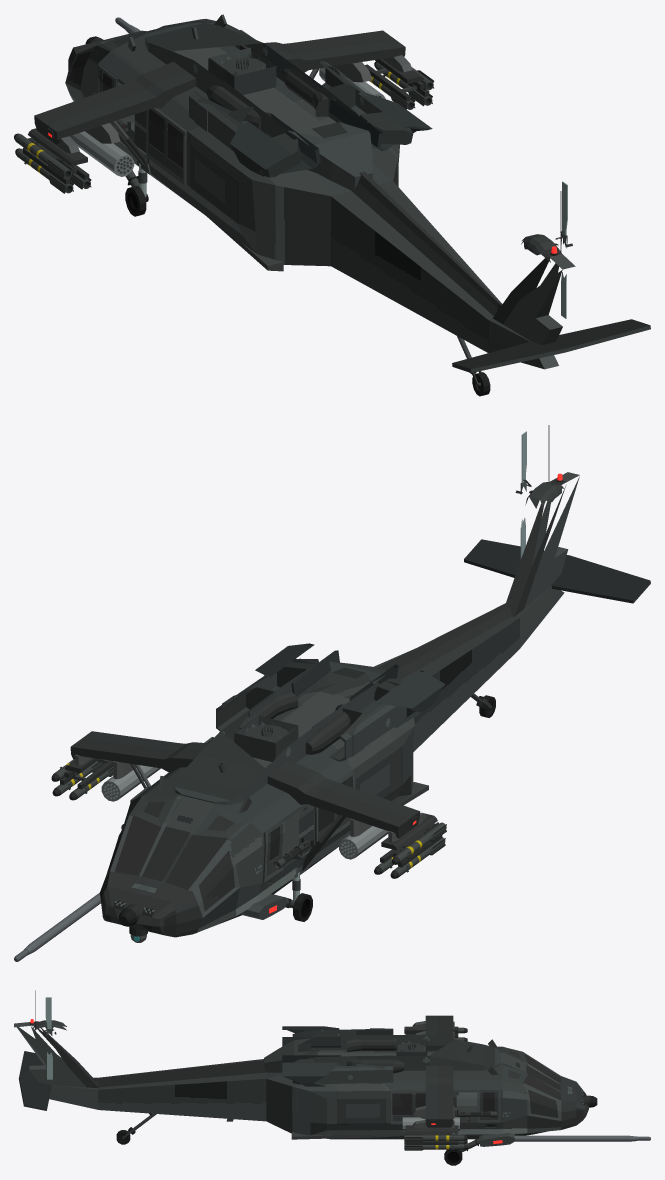
File: body.glb
The picture shows the model from 3 angles, top to bottom: view 1: azimuth 30°, elevation 25°; view 2: azimuth 150°, elevation 25°; view 3: azimuth 270°, elevation 25°; orthographic projection. The views are drawn at different scales.
Parts seen in each view (by area): view 1: Object_14, Object_17, Object_69, Object_57, Object_5, Object_68, Object_6, Object_64, Object_15, Object_43; view 2: Object_14, Object_17, Object_69, Object_6, Object_57, Object_5, Object_68, Object_64, Object_13, Object_15; view 3: Object_14, Object_17, Object_69, Object_6, Object_5, Object_13, Object_57, Object_68, Object_15, Object_43.
Boxes of the visible parts, box(x1,y1,x2,y2) form: Object_14: box(65, 19, 575, 369); Object_17: box(126, 22, 650, 372); Object_69: box(34, 30, 412, 167); Object_57: box(14, 61, 434, 193); Object_5: box(97, 14, 283, 271); Object_68: box(23, 59, 429, 184); Object_6: box(66, 21, 207, 168); Object_64: box(69, 67, 385, 176); Object_15: box(125, 163, 490, 396); Object_43: box(554, 181, 572, 318); Object_14: box(100, 472, 579, 937); Object_17: box(174, 481, 650, 919); Object_69: box(70, 731, 426, 870); Object_6: box(100, 776, 352, 934); Object_57: box(51, 759, 446, 878); Object_5: box(130, 737, 428, 882); Object_68: box(60, 758, 442, 867); Object_64: box(101, 765, 388, 859); Object_13: box(14, 425, 563, 961); Object_15: box(285, 693, 495, 921); Object_14: box(14, 1021, 588, 1139); Object_17: box(18, 1020, 515, 1146); Object_69: box(412, 1015, 454, 1133); Object_6: box(392, 1050, 582, 1127); Object_5: box(226, 1039, 500, 1139); Object_13: box(30, 990, 650, 1141); Object_57: box(404, 1026, 467, 1150); Object_68: box(405, 1026, 458, 1144); Object_15: box(116, 1113, 479, 1165); Object_43: box(42, 997, 56, 1079).
Size of the model in its own units: 7.72 by 5.06 by 18.82.
15 materials, 15 textured.
